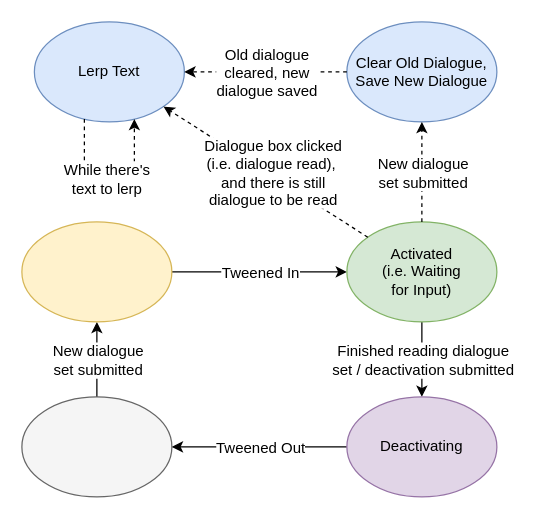
This 535x519 diagram has some shape labels left out. The centre of each missing label's shape, as x and y in pixels:
"Activating" belongs at (96,271).
"Deactivated" belongs at (96,446).
